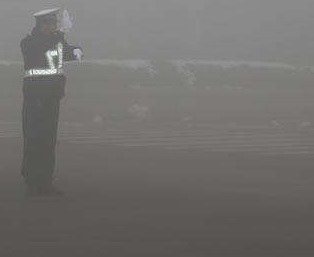person: (17, 6, 85, 198)
